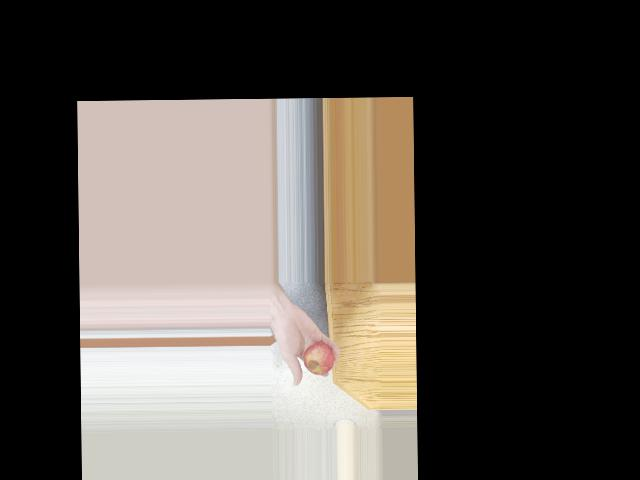apple: (300, 339, 334, 375)
